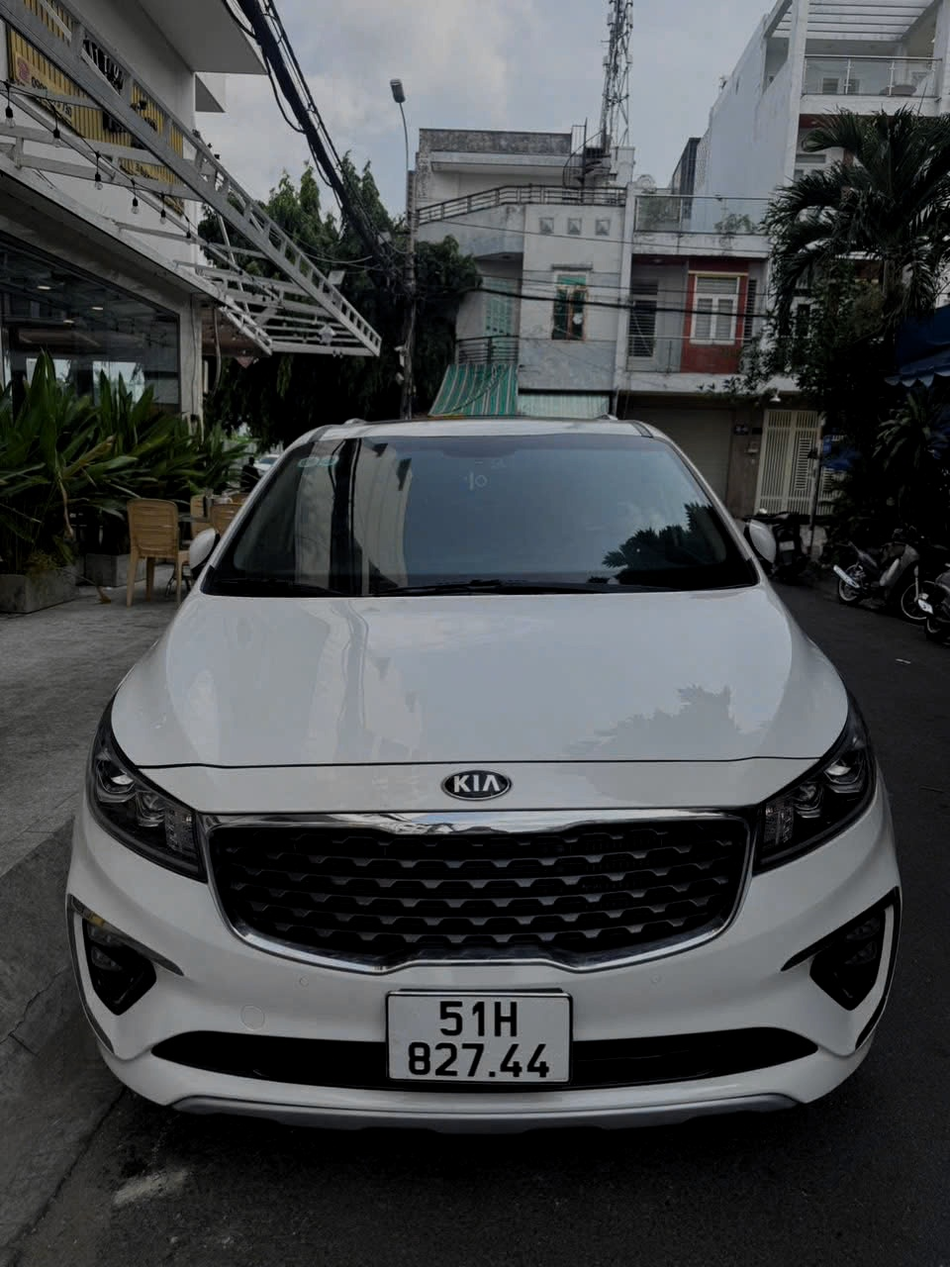Bien-so: (365, 948, 559, 1057)
